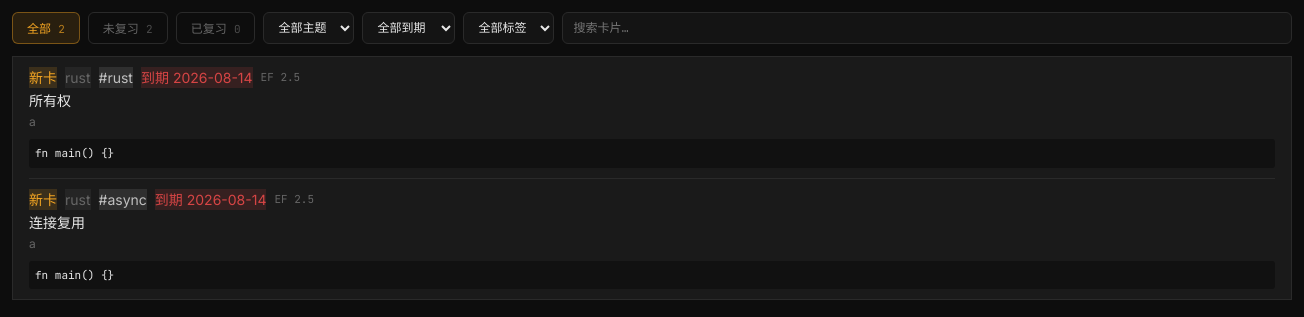
CardLibrary（标签筛选） › 按标签筛选卡片
Expected: the text "所有权" is shown, x1=29 y1=92 x2=71 y2=109
Expected: the text "连接复用" is shown, x1=29 y1=214 x2=85 y2=230
Select "#rust" in the 3rd dropdown: (509, 28) x1=464 y1=12 x2=554 y2=44
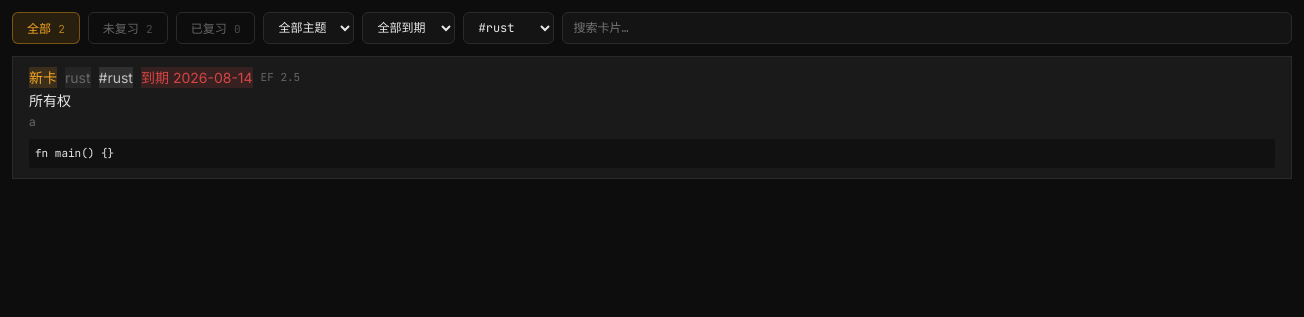
Expected: the text "所有权" is shown, x1=29 y1=92 x2=71 y2=109
Now the text "连接复用" is gone
